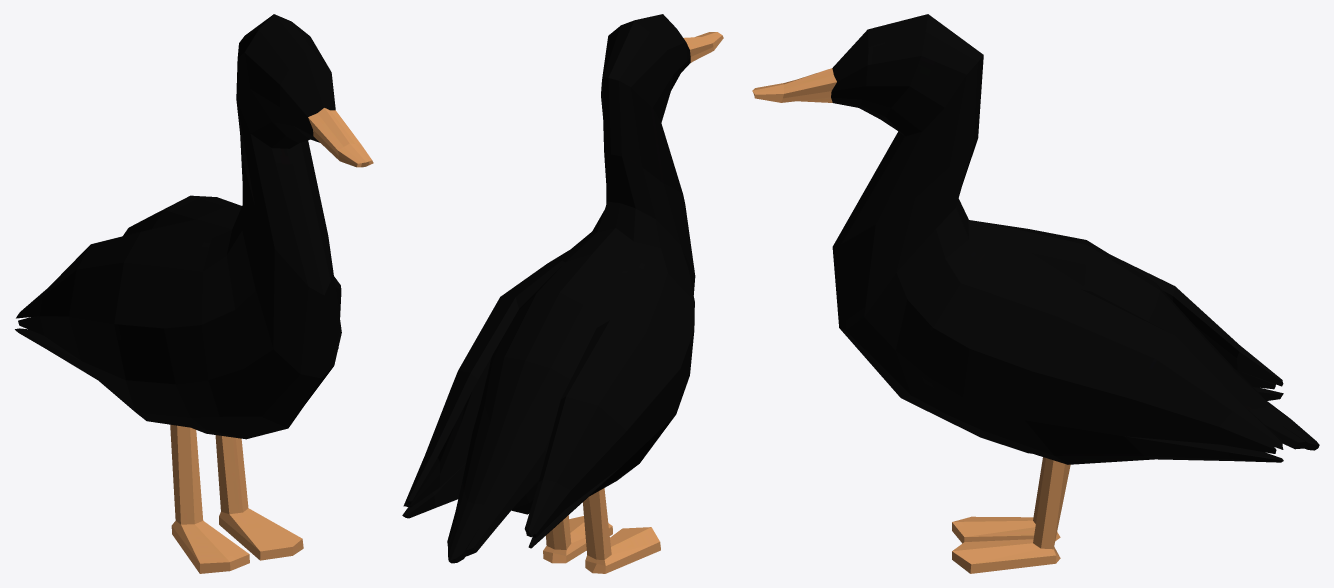
The model's file is prop_pa_duck.glb.
The picture shows the model from 3 angles, left to right: view 1: azimuth 30°, elevation 25°; view 2: azimuth 150°, elevation 25°; view 3: azimuth 270°, elevation 25°; orthographic projection. The views are drawn at different scales.
Parts seen in each view (by area): view 1: 03duckFinal; view 2: 03duckFinal; view 3: 03duckFinal.
Boxes of the visible parts, <box> form: 03duckFinal: <box>15,14,373,573</box>; 03duckFinal: <box>402,14,723,573</box>; 03duckFinal: <box>752,14,1319,573</box>.
Size of the model in its own units: 0.2029 by 0.5174 by 0.4966.
1 material, 1 textured.
